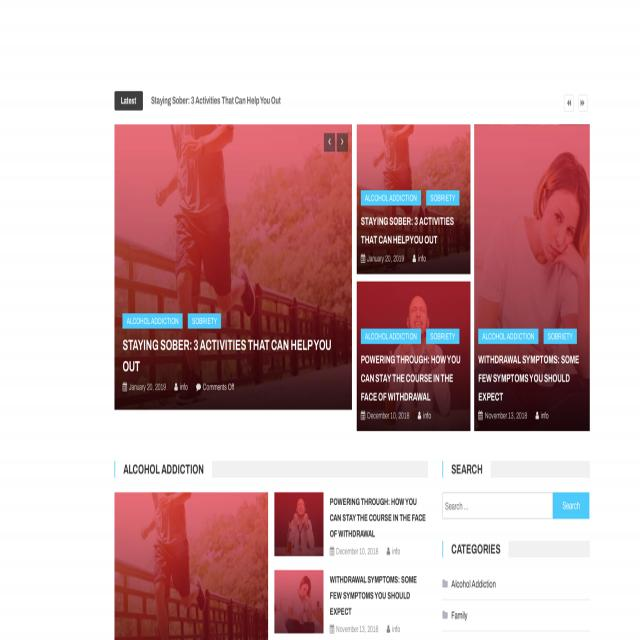button: (115, 125, 352, 410), (475, 125, 590, 430), (114, 491, 269, 640), (357, 125, 471, 274), (357, 283, 471, 431), (274, 570, 431, 636), (274, 493, 428, 557), (440, 600, 590, 628), (441, 572, 591, 598), (553, 493, 590, 519), (114, 90, 143, 112), (324, 131, 335, 152), (337, 132, 347, 152), (578, 95, 588, 112), (564, 95, 574, 111)
field: (442, 493, 552, 519)
